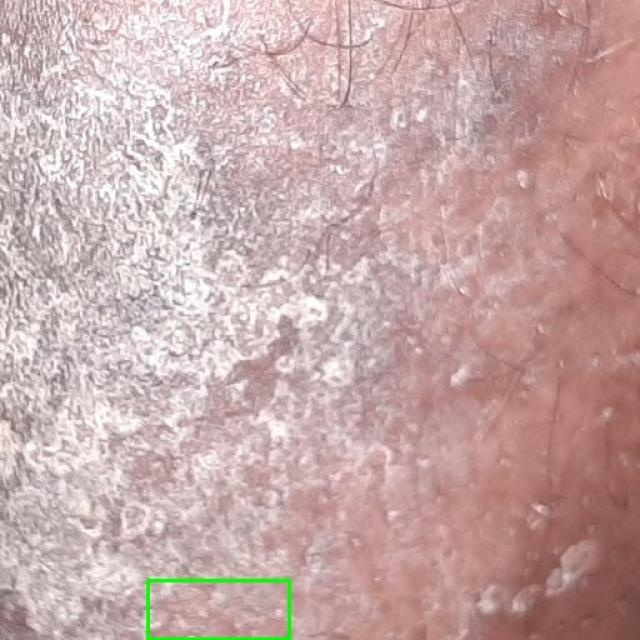Tinea Corporis: (148, 580, 289, 639)
